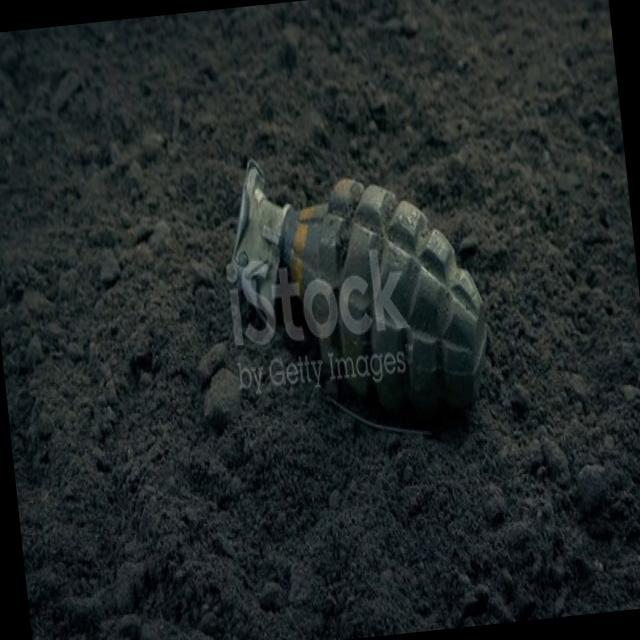grenade: (210, 132, 504, 478)
